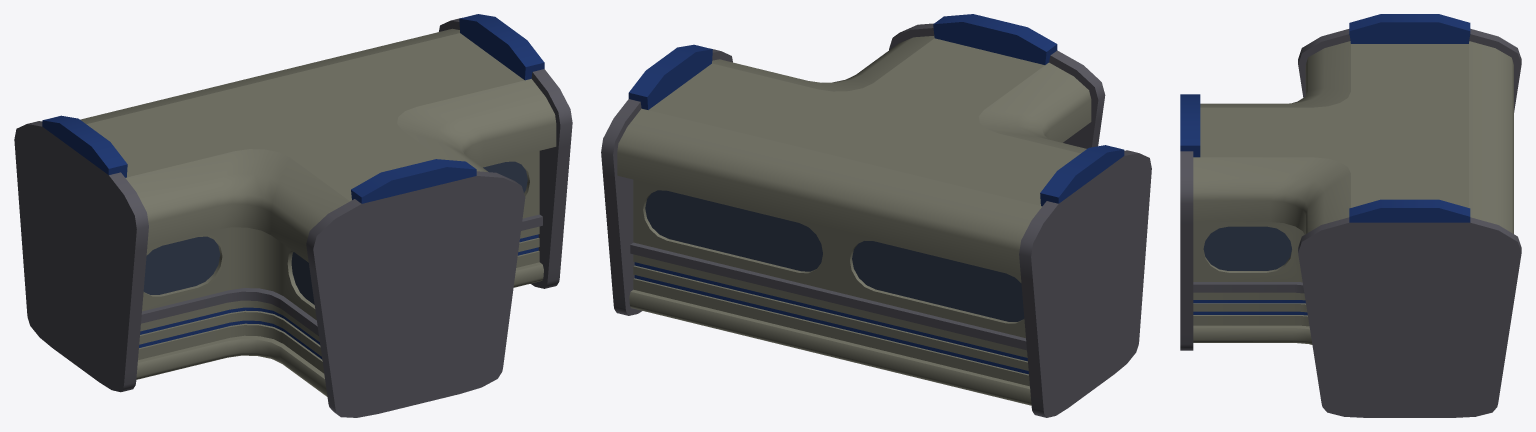
The model's file is LPSciFi_Doorway3Way.fbx.
3 views of the same model, side by side, from view 1: azimuth 30°, elevation 25°; view 2: azimuth 150°, elevation 25°; view 3: azimuth 270°, elevation 25° (orthographic). The views are drawn at different scales.
Parts seen in each view (by area): view 1: Doorway3Way; view 2: Doorway3Way; view 3: Doorway3Way.
Part boxes in pixels (x1=…): Doorway3Way: x1=14, y1=14, x2=572, y2=417; Doorway3Way: x1=601, y1=14, x2=1151, y2=417; Doorway3Way: x1=1180, y1=14, x2=1521, y2=417.
Size of the model in its own units: 800 by 404 by 595.
